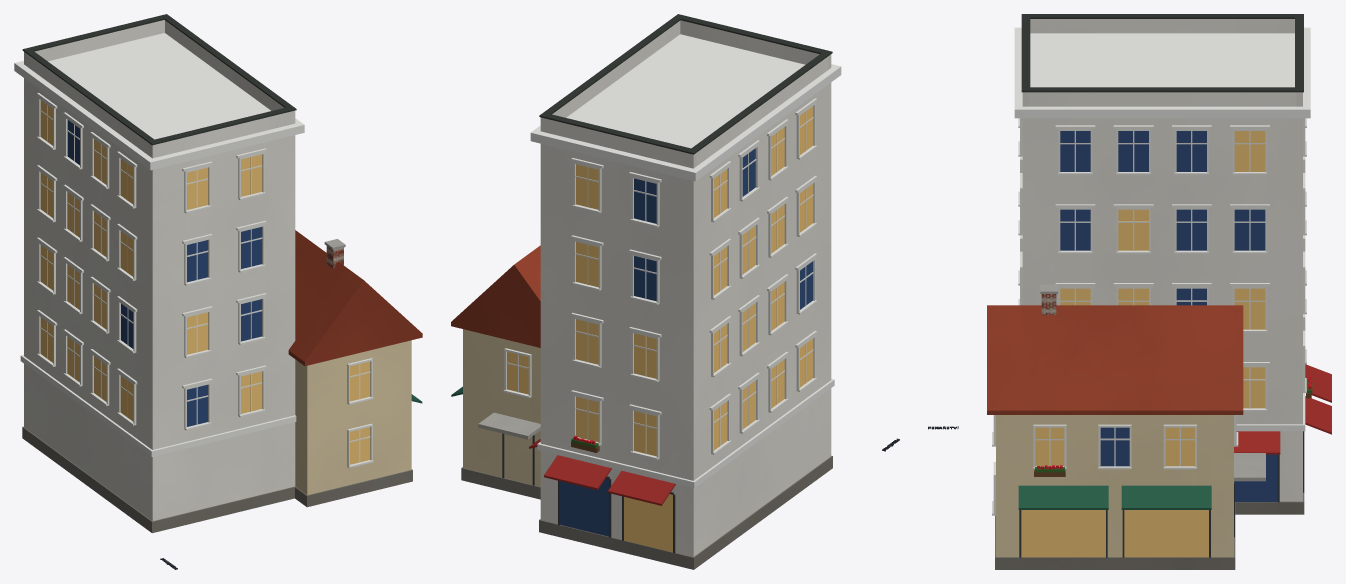
Rendered from dum_0f_obchody_kridlo.glb.
The picture shows the model from 3 angles, left to right: view 1: azimuth 30°, elevation 25°; view 2: azimuth 150°, elevation 25°; view 3: azimuth 270°, elevation 25°; orthographic projection. The views are drawn at different scales.
Parts seen in each view (by area): view 1: dum, noc; view 2: dum, noc; view 3: dum, noc.
Boxes of the visible parts, x1,y1,x2,y2 form: dum: (14, 14, 422, 569); noc: (40, 100, 370, 464); dum: (451, 14, 899, 569); noc: (507, 106, 813, 552); dum: (928, 14, 1331, 569); noc: (1021, 131, 1265, 557).
Size of the model in its own units: 13.37 by 17.19 by 14.83.
Materials: 1 (1 with a texture image).
